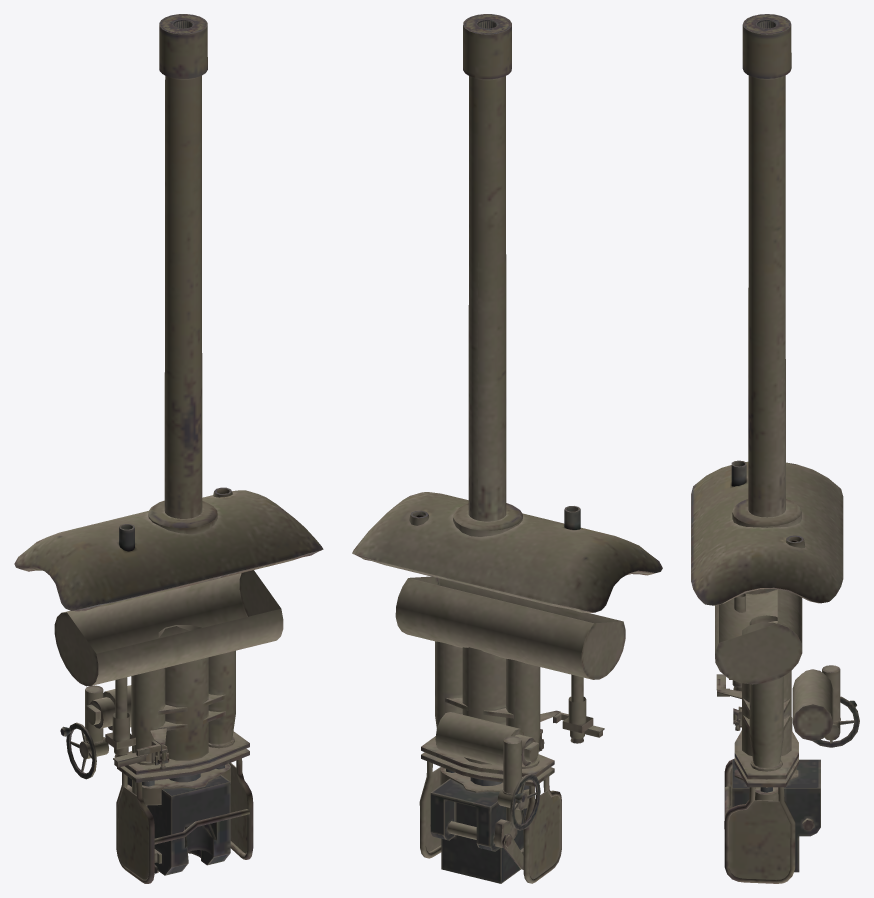
File: Gun_02.glb
3 renders of one model, left to right at view 1: azimuth 30°, elevation 25°; view 2: azimuth 150°, elevation 25°; view 3: azimuth 270°, elevation 25°, orthographic.
Visible parts, largest first — view 1: set_0_group_0; view 2: set_0_group_0; view 3: set_0_group_0.
Boxes of the visible parts, bbox=[...] form: set_0_group_0: bbox=[14, 14, 323, 883]; set_0_group_0: bbox=[352, 14, 662, 883]; set_0_group_0: bbox=[691, 14, 859, 883].
Size of the model in its own units: 0.9091 by 2.84 by 0.5207.
Materials: 1 (1 with a texture image).
